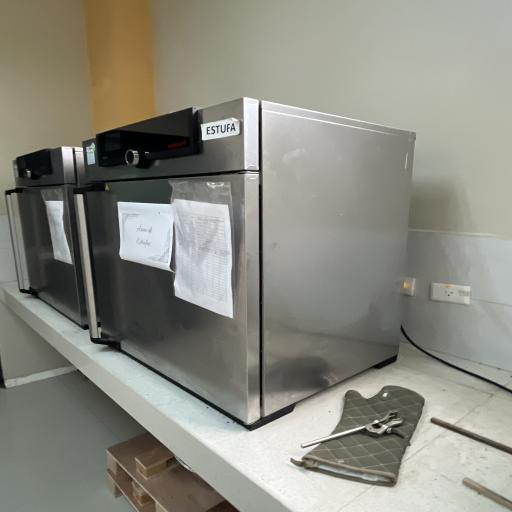Estufa_Memmert: (74, 85, 434, 438)
